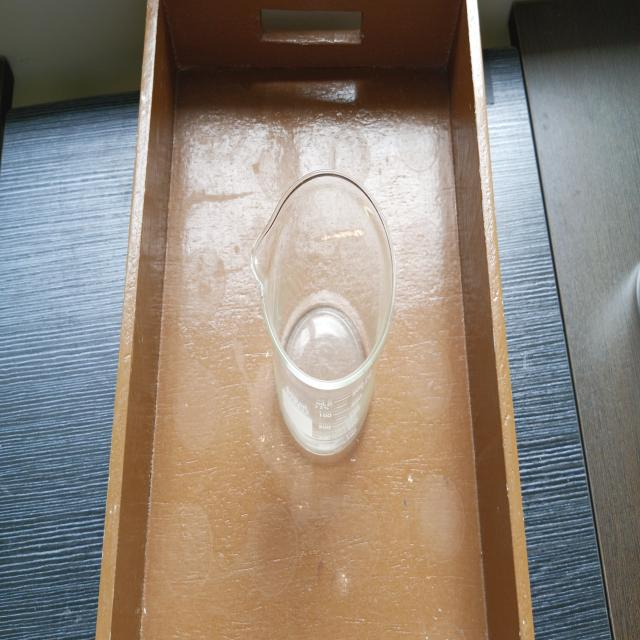beaker: (248, 162, 399, 467)
